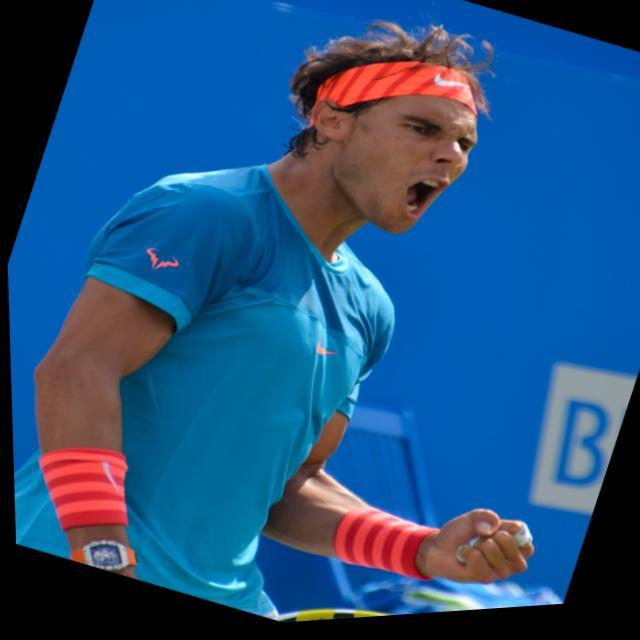Nonhelmet: (283, 19, 497, 236)
